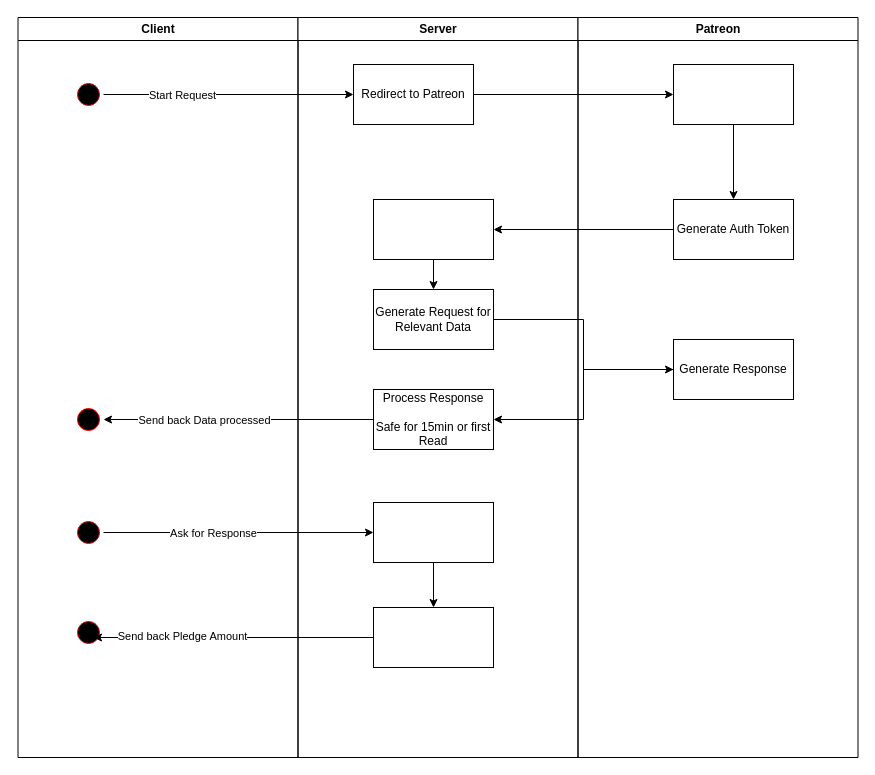
Image size: 875x775. Some labels were removed from this diagram. The box of each missing label's shape, as (x1, y1, x2, y2) in pixels:
Ask for Permisson: (672, 64, 794, 124)
Process Request: (372, 502, 494, 562)
process response and send back, after it delete it: (372, 606, 494, 668)
Recive Token: (372, 198, 494, 260)
